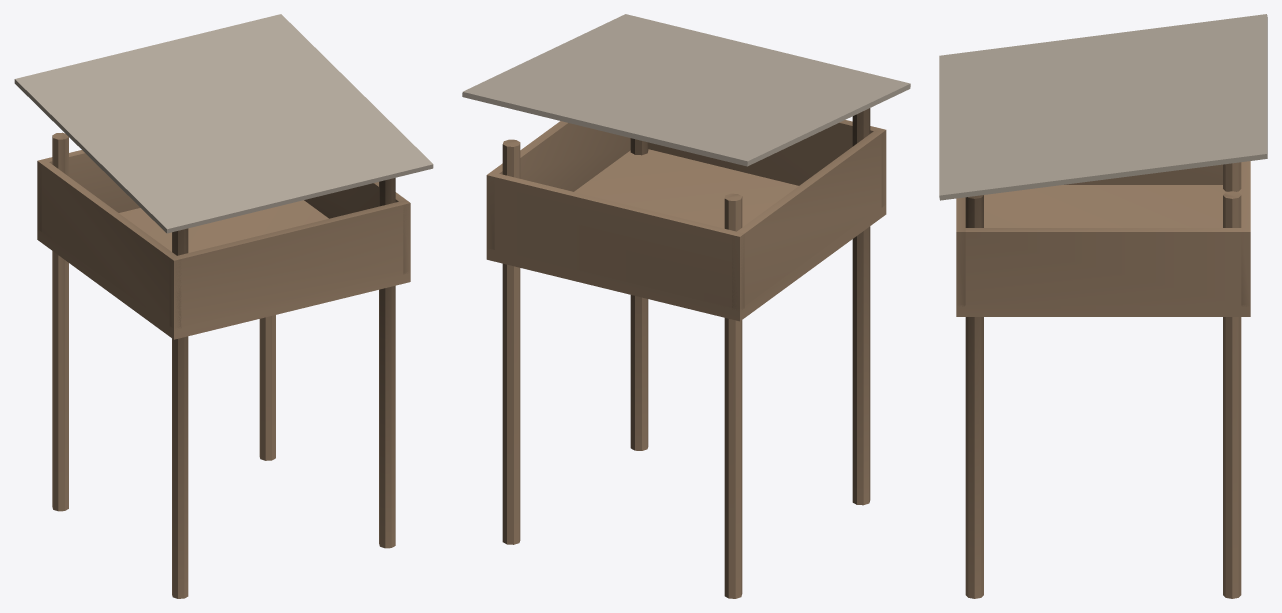
Rendered from Base_Watchtower.fbx.
3 views of the same model, side by side, from view 1: azimuth 30°, elevation 25°; view 2: azimuth 150°, elevation 25°; view 3: azimuth 270°, elevation 25° (orthographic). The views are drawn at different scales.
Parts seen in each view (by area): view 1: Base_Watchtower; view 2: Base_Watchtower; view 3: Base_Watchtower.
Part boxes in pixels (x1,y1,x2,y2): Base_Watchtower: [14, 14, 433, 598]; Base_Watchtower: [462, 14, 910, 598]; Base_Watchtower: [939, 14, 1267, 598].
Bounding box in the file's own units: 3.6 × 5.48 × 3.57.
